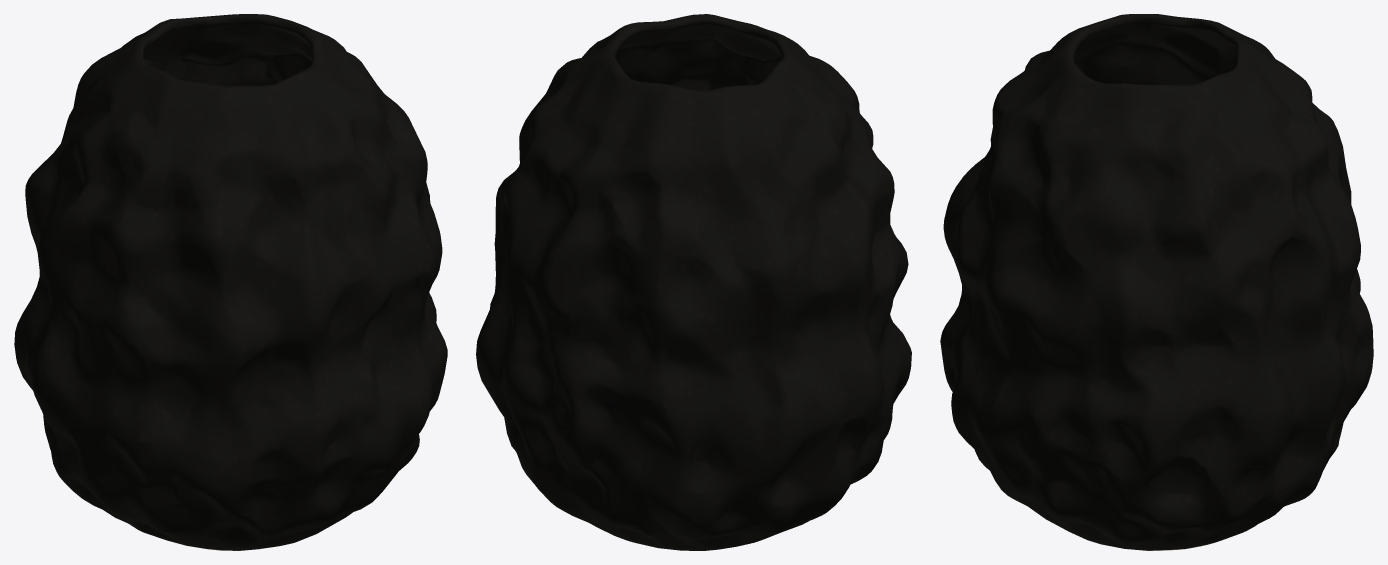
The model's file is 6bd79z5b8xou.glb.
The picture shows the model from 3 angles, left to right: view 1: azimuth 30°, elevation 25°; view 2: azimuth 150°, elevation 25°; view 3: azimuth 270°, elevation 25°; orthographic projection.
Visible parts, largest first — view 1: 20590498-STOCKHOLM 001; view 2: 20590498-STOCKHOLM 001; view 3: 20590498-STOCKHOLM 001.
Boxes of the visible parts, x1,y1,x2,y2 form: 20590498-STOCKHOLM 001: (14, 14, 447, 550); 20590498-STOCKHOLM 001: (476, 14, 911, 550); 20590498-STOCKHOLM 001: (940, 14, 1373, 550).
Size of the model in its own units: 0.229 by 0.265 by 0.2267.
1 material, 1 textured.
